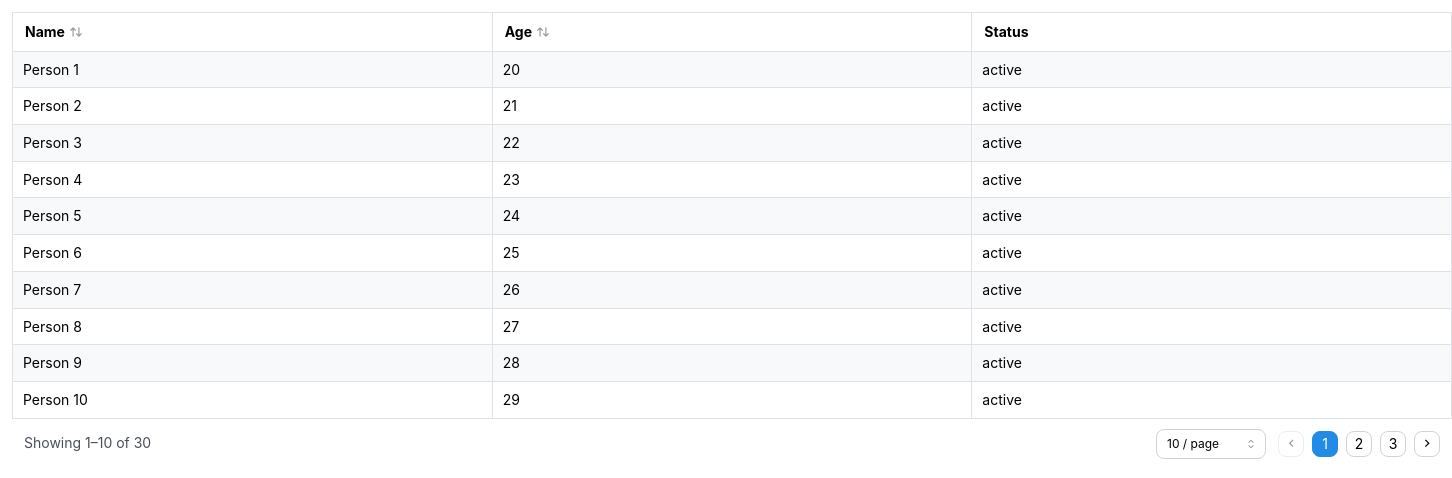
DataTable › pagination › navigates to page 2 when page 2 button is clicked
This screenshot has width=1452, height=478.
# Mantine Pagination renders page buttons with aria-label "Page N" when getItemProps is set
Click the button named "Page 2".
click(1359, 444)  # box [1346, 431, 1372, 457]
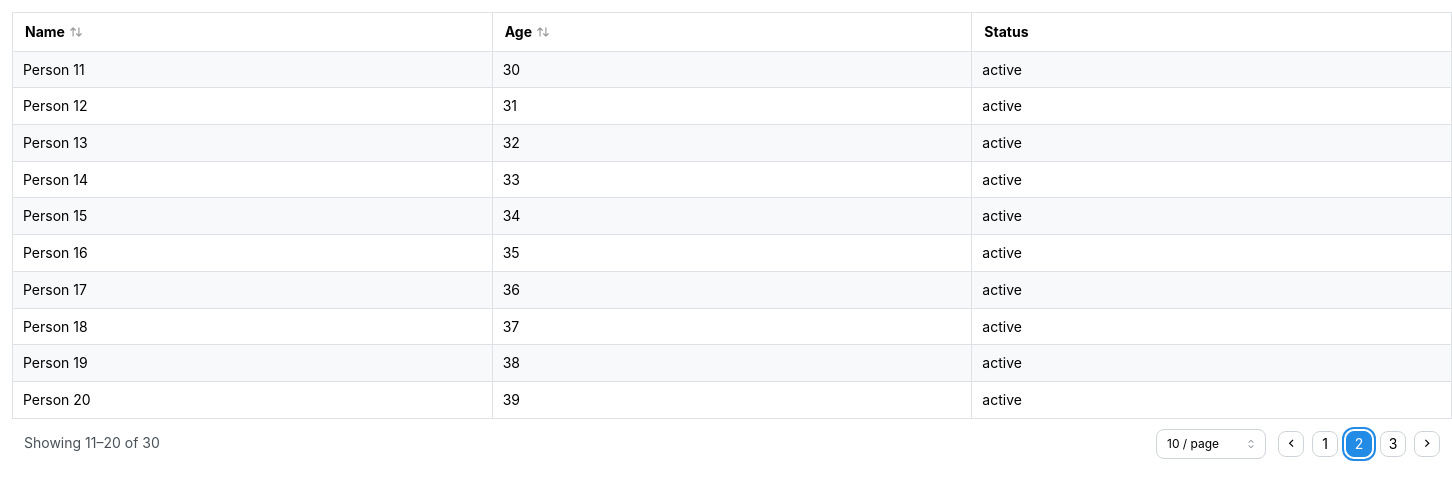
Expected: the text "Person 11" is shown, [12, 51, 492, 88]
